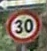limite 30: (5, 9, 40, 43)
